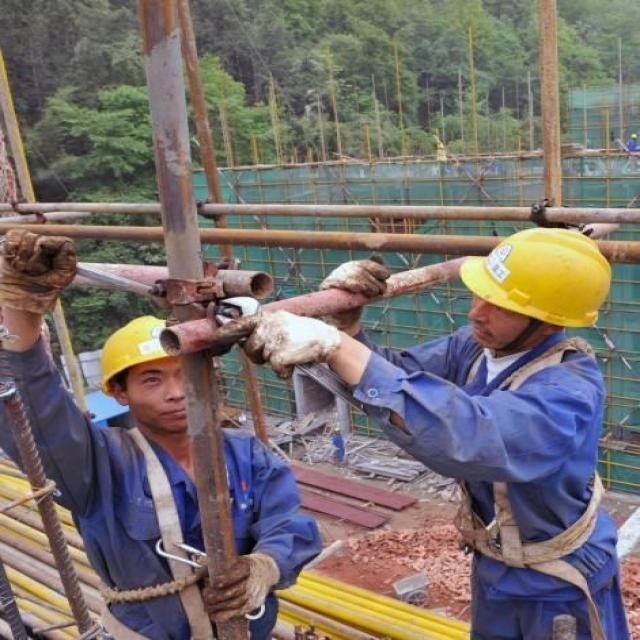Arnes_seguridad: (445, 327, 608, 569), (87, 422, 245, 639)
